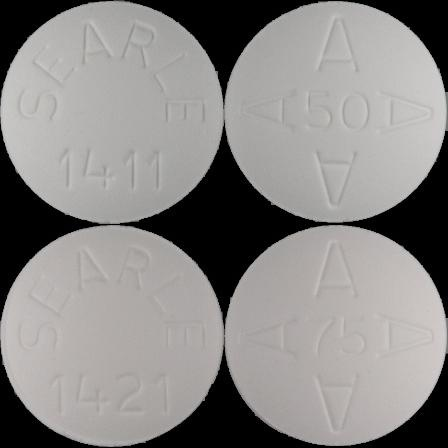0025-1411: (0, 0, 224, 224)
